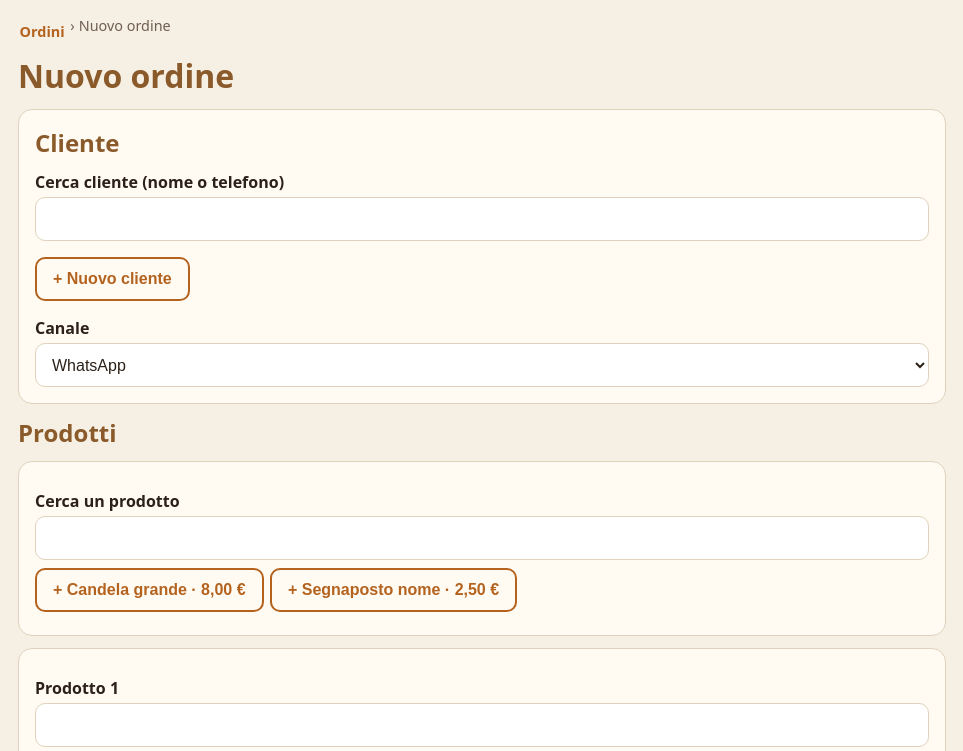
Test: riga compilata a metà blocca il salvataggio
Step 1. Type "mar" into the field labelled "Cerca cliente (nome o telefono)" → (482, 219), box [35,197,929,241]
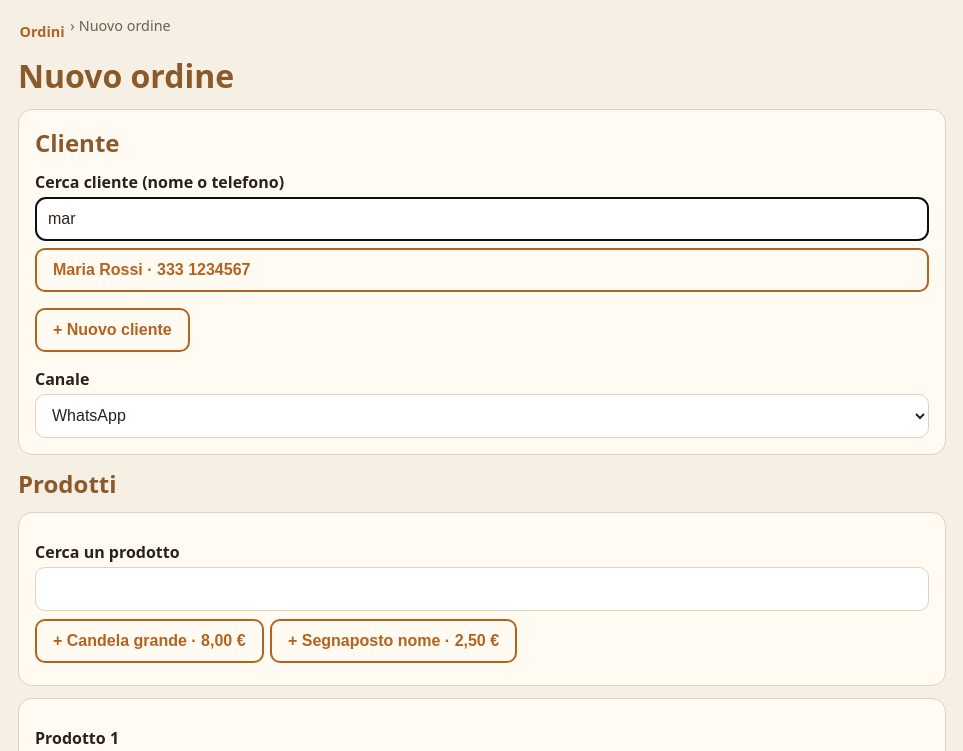
Step 2. Click the button "Maria Rossi · 333 1234567" → (98, 269), box [35,248,929,292]
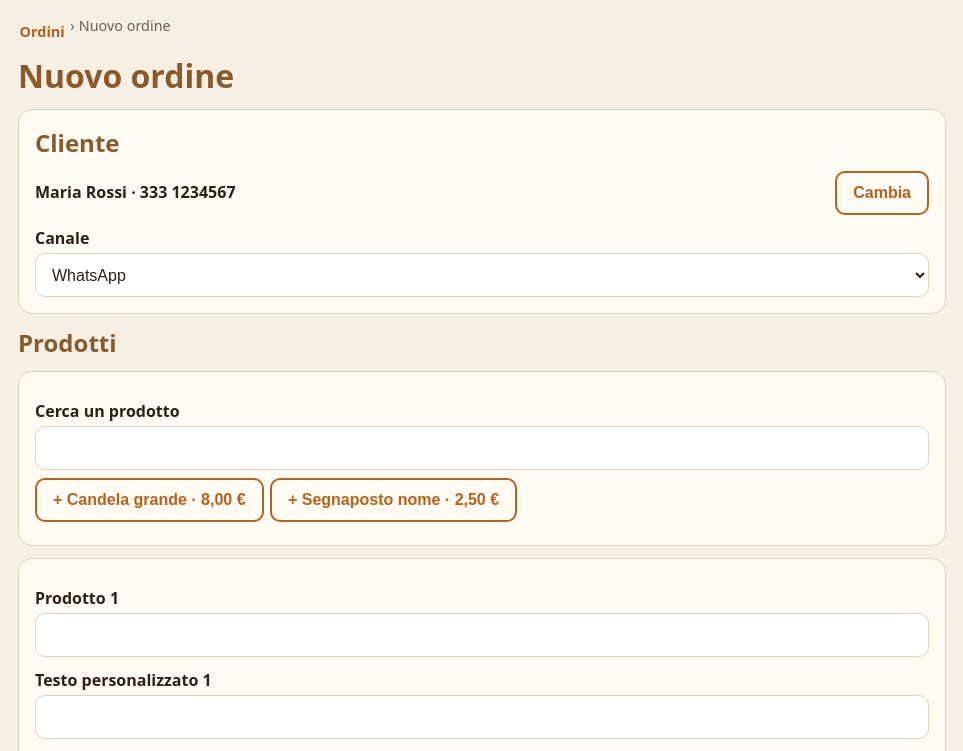
Step 3. Type "Segnaposto" into the field labelled "Prodotto 1" → (482, 635), box [35,613,929,657]
(page scrolled)
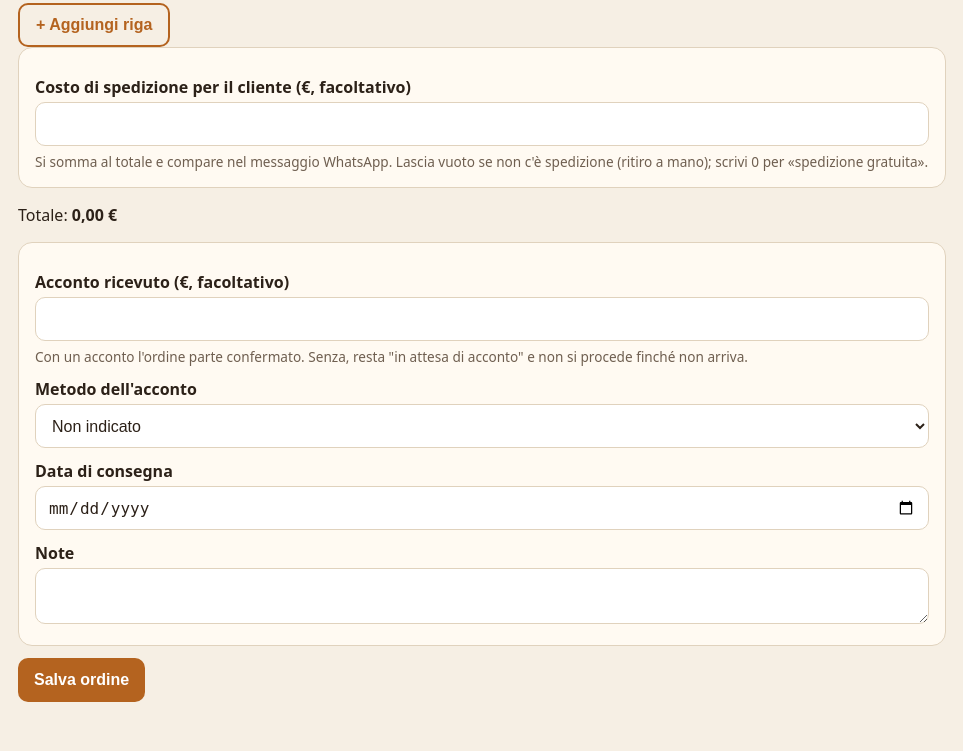
Step 4. Click the button "Salva ordine" → (82, 680), box [18,658,145,702]
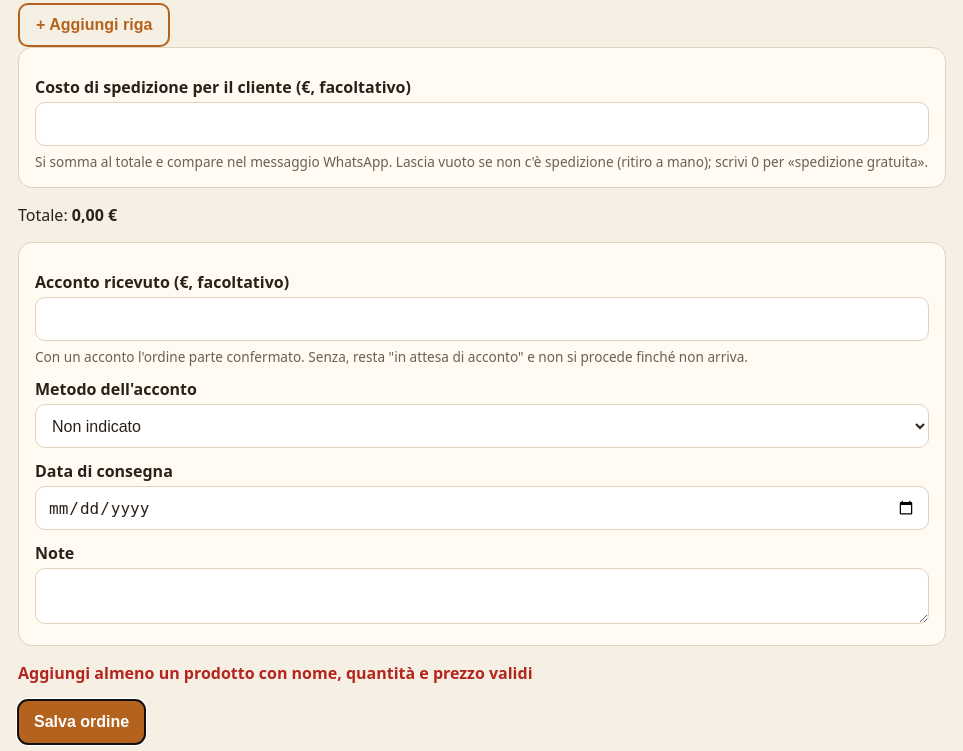
Now the text "Aggiungi almeno un prodotto con nome, quantità e prezzo validi" is shown, box [18,662,532,684]
